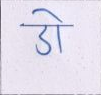e_matra: (31, 8, 67, 24)
